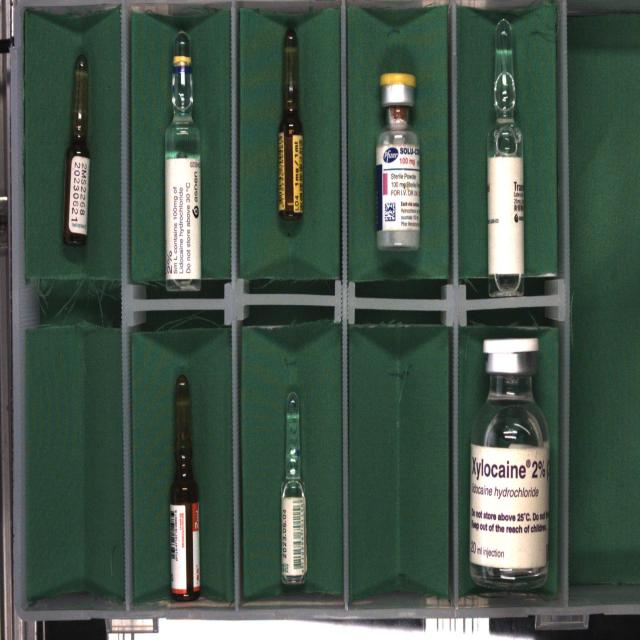Vials: (469, 338, 550, 587), (376, 73, 419, 250)
